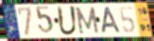5: (34, 5, 56, 37), (118, 5, 136, 34)
7: (16, 6, 33, 37)
A: (101, 6, 122, 35)
M: (74, 7, 101, 36)
U: (56, 5, 79, 37)
